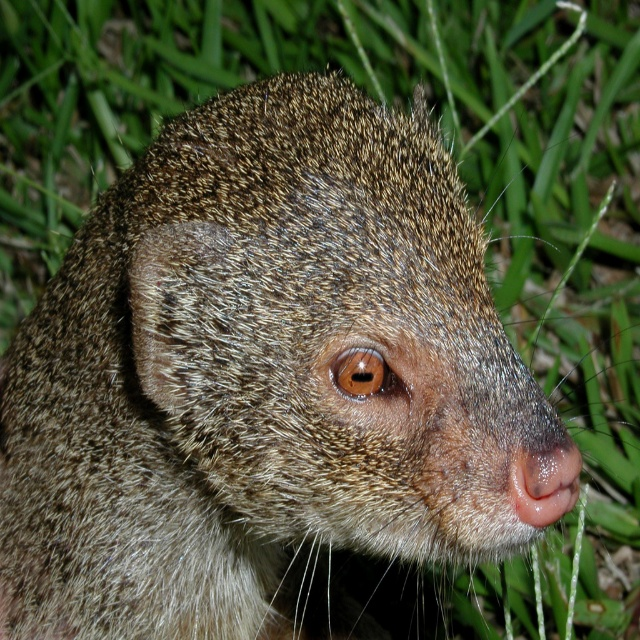Otter: (0, 65, 639, 640)
